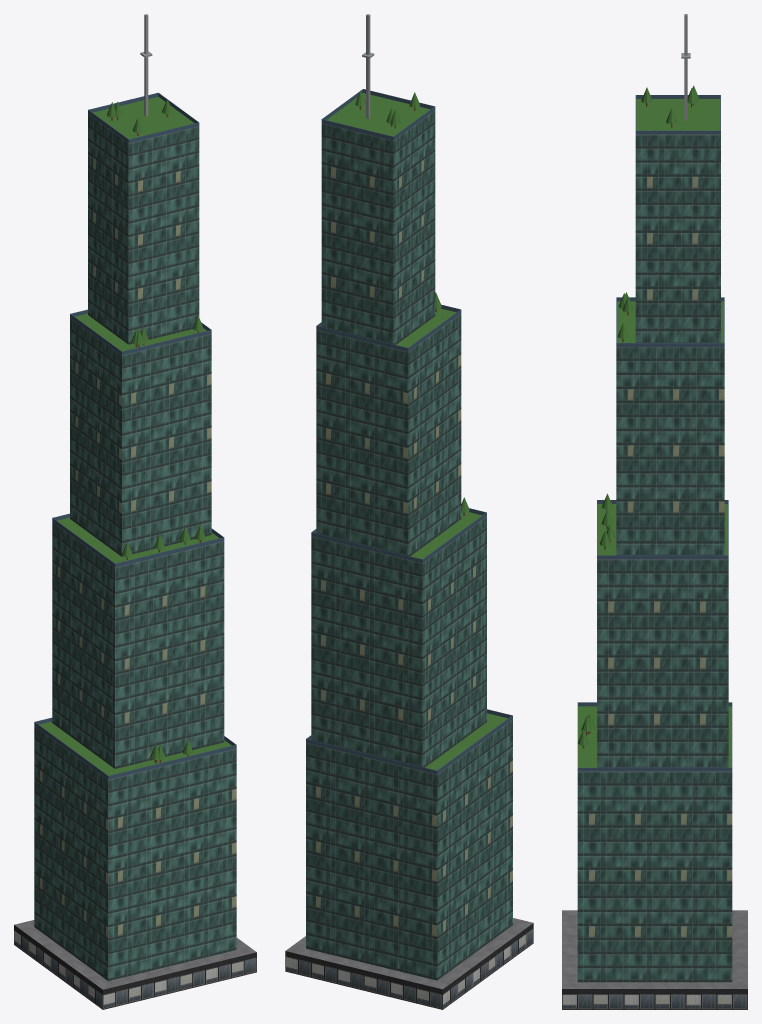
The model's file is 100_eco_tower.glb.
3 views of the same model, side by side, from view 1: azimuth 30°, elevation 25°; view 2: azimuth 150°, elevation 25°; view 3: azimuth 270°, elevation 25° (orthographic). The views are drawn at different scales.
Parts seen in each view (by area): view 1: 100_eco_tower; view 2: 100_eco_tower; view 3: 100_eco_tower.
Part boxes in pixels (x1,y1,x2,y2): 100_eco_tower: (14, 14, 256, 1009); 100_eco_tower: (285, 14, 533, 1009); 100_eco_tower: (562, 14, 747, 1009).
Size of the model in its own units: 48 by 276 by 48.
Materials: 7 (4 with a texture image).
